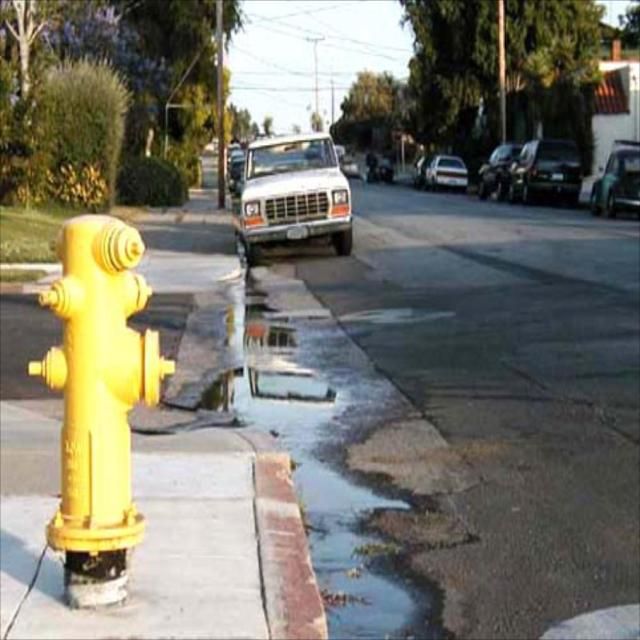fire_hydrant: (28, 210, 176, 610)
